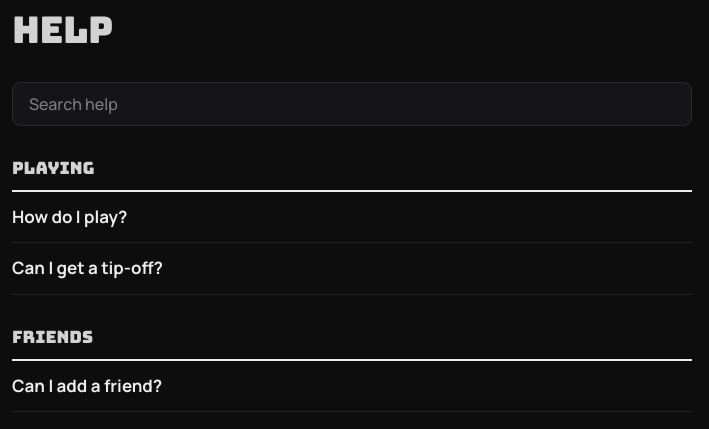
Scenario: help centre › typing in search keeps only the matching articles
Type "friend" into the search field labelled "Search help" at (352, 104), box [12, 82, 692, 126]
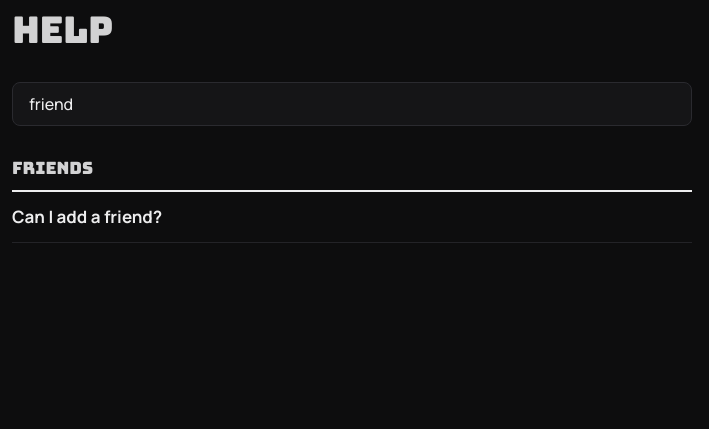
Expected: the link "Can I add a friend?" is shown, [12, 192, 692, 243]
Result: the link "How do I play?" is gone
Result: the heading "Playing" is gone
